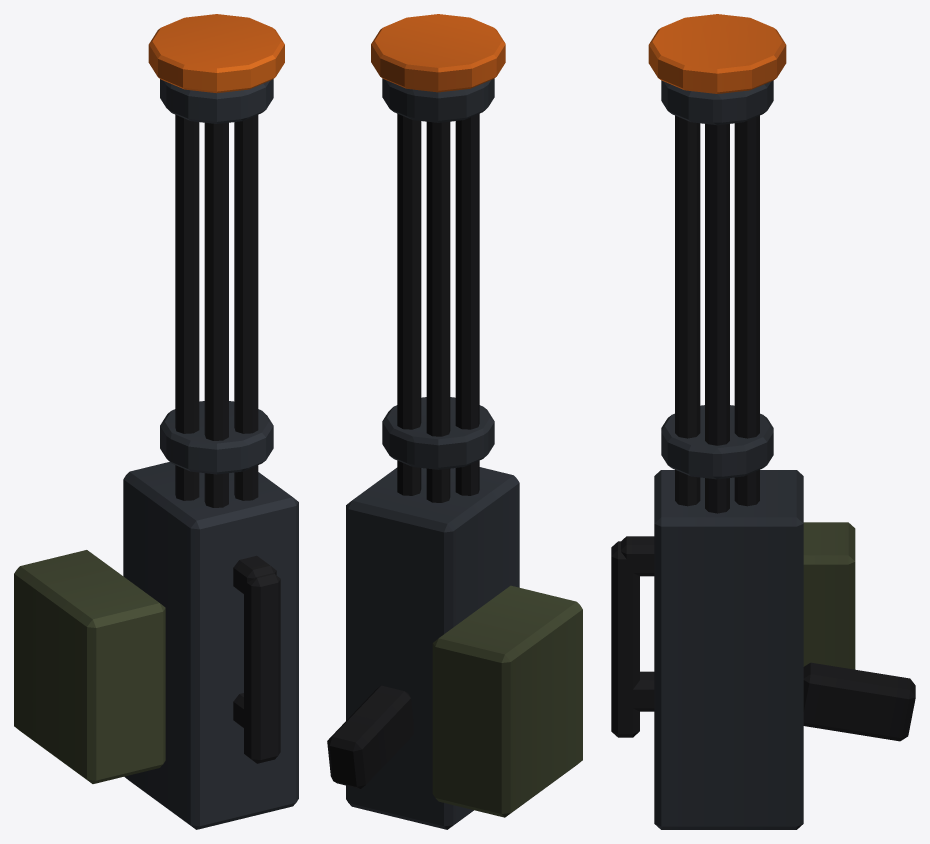
File: shredder.glb
The picture shows the model from 3 angles, left to right: view 1: azimuth 30°, elevation 25°; view 2: azimuth 150°, elevation 25°; view 3: azimuth 270°, elevation 25°; orthographic projection. The views are drawn at different scales.
Visible parts, largest first — view 1: shredder; view 2: shredder; view 3: shredder.
Boxes of the visible parts, x1,y1,x2,y2 form: shredder: (14, 14, 298, 829); shredder: (327, 14, 582, 829); shredder: (611, 14, 915, 829).
Size of the model in its own units: 0.1998 by 0.734 by 0.265.
